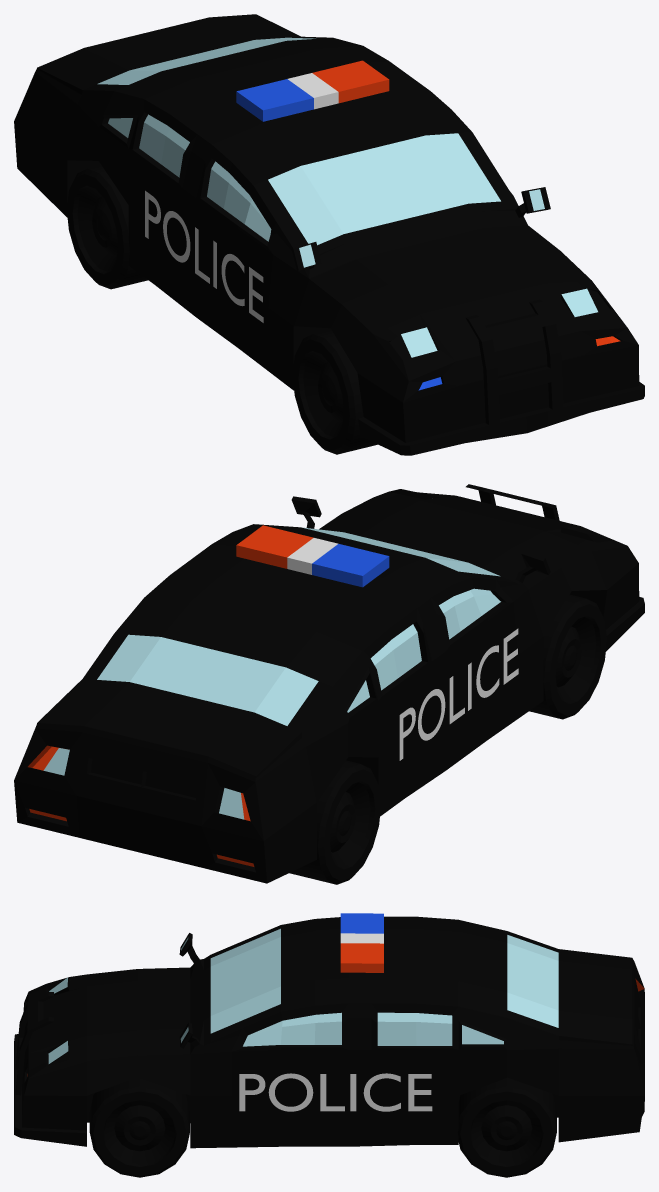
File: police.fbx
The picture shows the model from 3 angles, top to bottom: view 1: azimuth 30°, elevation 25°; view 2: azimuth 150°, elevation 25°; view 3: azimuth 270°, elevation 25°; orthographic projection. The views are drawn at different scales.
Parts seen in each view (by area): view 1: Police car, Right_front_wheel, Right_back_wheel, Text.001; view 2: Police car, Right_back_wheel, Right_front_wheel, Text.001; view 3: Police car, Left_front_wheel, Left_back_wheel, Text.
Boxes of the visible parts, x1,y1,x2,y2 form: Police car: (14,14,644,455); Right_front_wheel: (292,329,377,454); Right_back_wheel: (66,165,147,289); Text.001: (145,190,263,322); Police car: (14,484,644,883); Right_back_wheel: (289,760,381,884); Right_front_wheel: (529,594,606,719); Text.001: (399,628,518,760); Police car: (14,913,644,1148); Left_front_wheel: (89,1077,189,1177); Left_back_wheel: (457,1077,556,1177); Text: (239,1073,432,1111).
Size of the model in its own units: 2.02 by 1.74 by 5.23.
